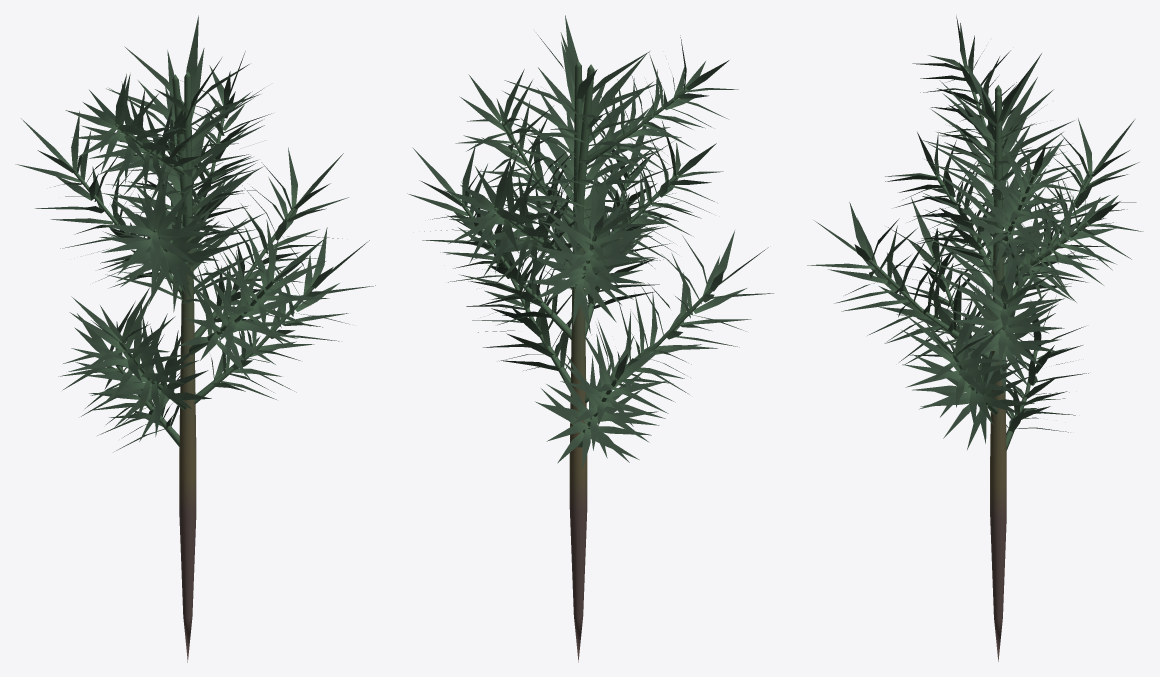
File: trees-plants-saplings-pine-sapling_v1.glb
3 views of the same model, side by side, from view 1: azimuth 30°, elevation 25°; view 2: azimuth 150°, elevation 25°; view 3: azimuth 270°, elevation 25° (orthographic). The views are drawn at different scales.
Parts seen in each view (by area): view 1: Pine Sapling_v1; view 2: Pine Sapling_v1; view 3: Pine Sapling_v1.
Boxes of the visible parts, x1,y1,x2,y2 form: Pine Sapling_v1: (15,15,375,662); Pine Sapling_v1: (407,15,773,662); Pine Sapling_v1: (807,16,1143,661).
Bounding box in the file's own units: 0.3142 × 0.6 × 0.3026.
